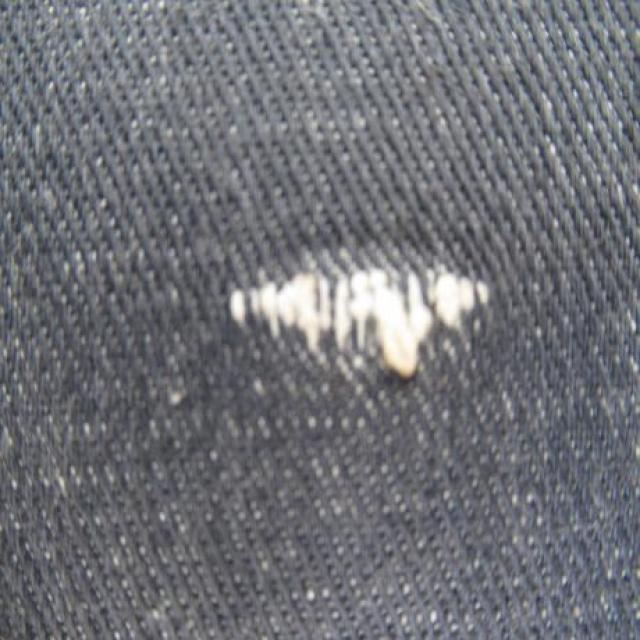stains: (110, 110, 628, 590)
